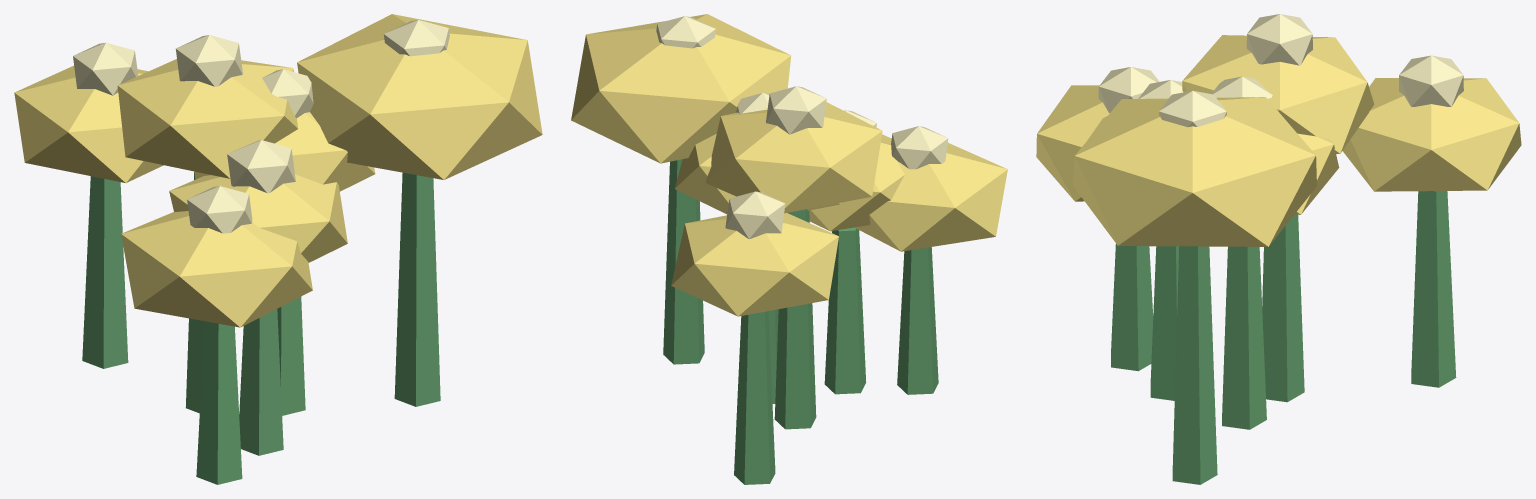
The model's file is Flowers_Yellow.glb.
The picture shows the model from 3 angles, left to right: view 1: azimuth 30°, elevation 25°; view 2: azimuth 150°, elevation 25°; view 3: azimuth 270°, elevation 25°; orthographic projection. The views are drawn at different scales.
Parts seen in each view (by area): view 1: Flowers_Yellow; view 2: Flowers_Yellow; view 3: Flowers_Yellow.
Part boxes in pixels (left/top/right/bottom): Flowers_Yellow: left=14, top=14, right=542, bottom=484; Flowers_Yellow: left=571, top=14, right=1007, bottom=484; Flowers_Yellow: left=1036, top=14, right=1521, bottom=484.
Bounding box in the file's own units: 0.4428 × 0.3764 × 0.4307.
